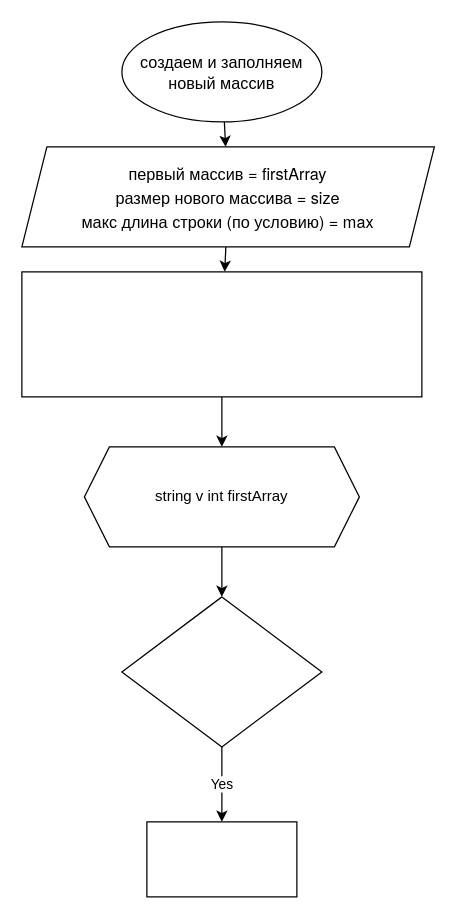
Some shapes in this 456 by 919 pixel diagram are drawn without their labels. The shapes that lost their labels are listed below. From the top down, each one's centre as x and y in pixels, then its label:
point (221, 334): создаем новый массив=newArray создаем счетчик нового массива = count
point (221, 671): v.Length<=max
